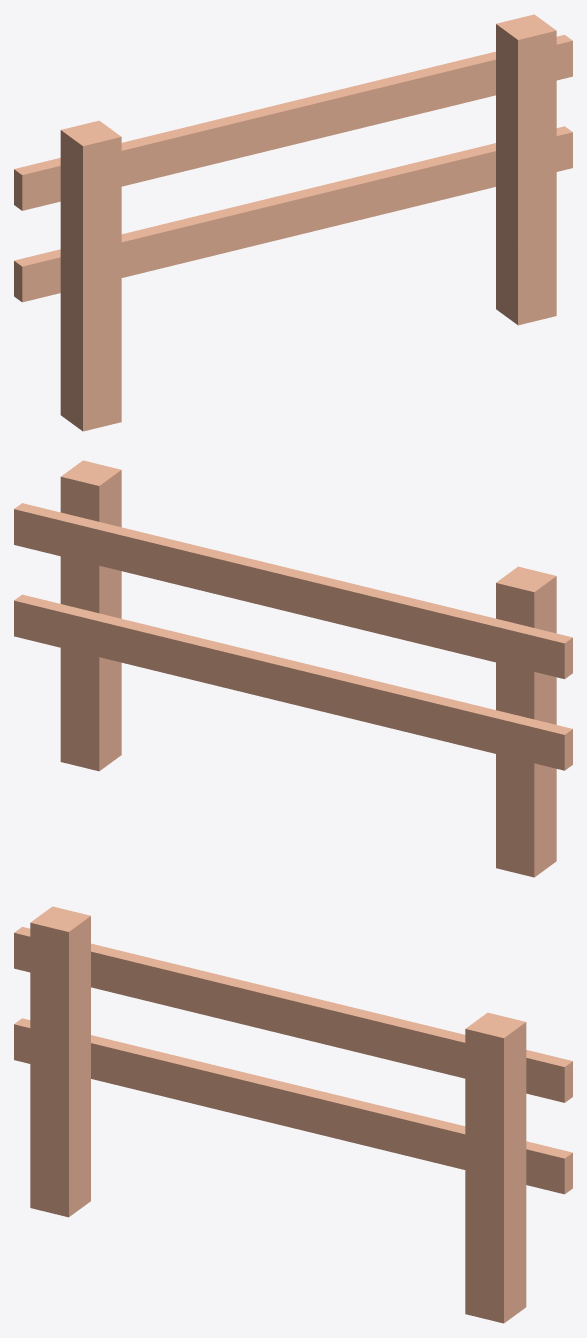
The model's file is fence_planks.glb.
The picture shows the model from 3 angles, top to bottom: view 1: azimuth 30°, elevation 25°; view 2: azimuth 150°, elevation 25°; view 3: azimuth 330°, elevation 25°; orthographic projection.
Parts seen in each view (by area): view 1: fence_planks; view 2: fence_planks; view 3: fence_planks.
Part boxes in pixels (<box>): fence_planks: <box>14,14,572,431</box>; fence_planks: <box>14,460,572,877</box>; fence_planks: <box>14,906,572,1323</box>.
Bounding box in the file's own units: 1 × 0.495 × 0.0959.
